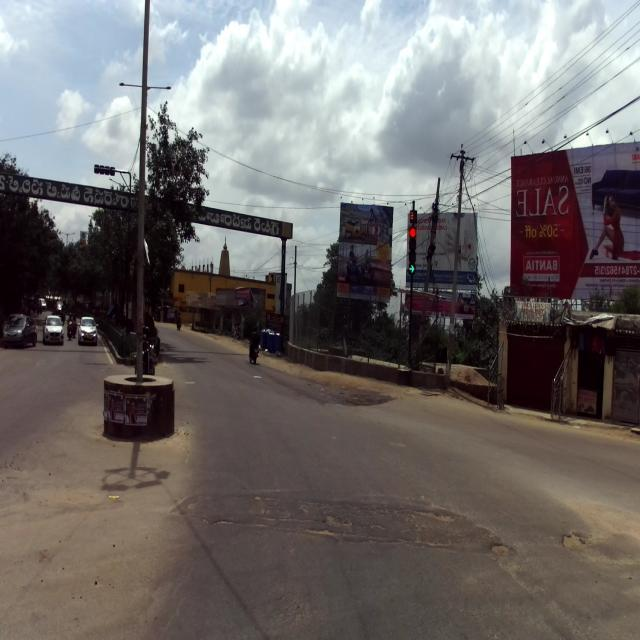pothole: (202, 488, 294, 530), (306, 501, 364, 544), (397, 498, 464, 530), (554, 517, 592, 569), (488, 526, 516, 567)
